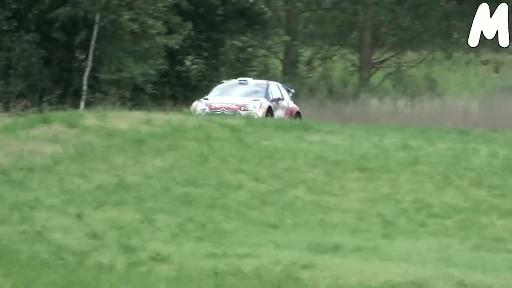CAR: (191, 66, 307, 127)
